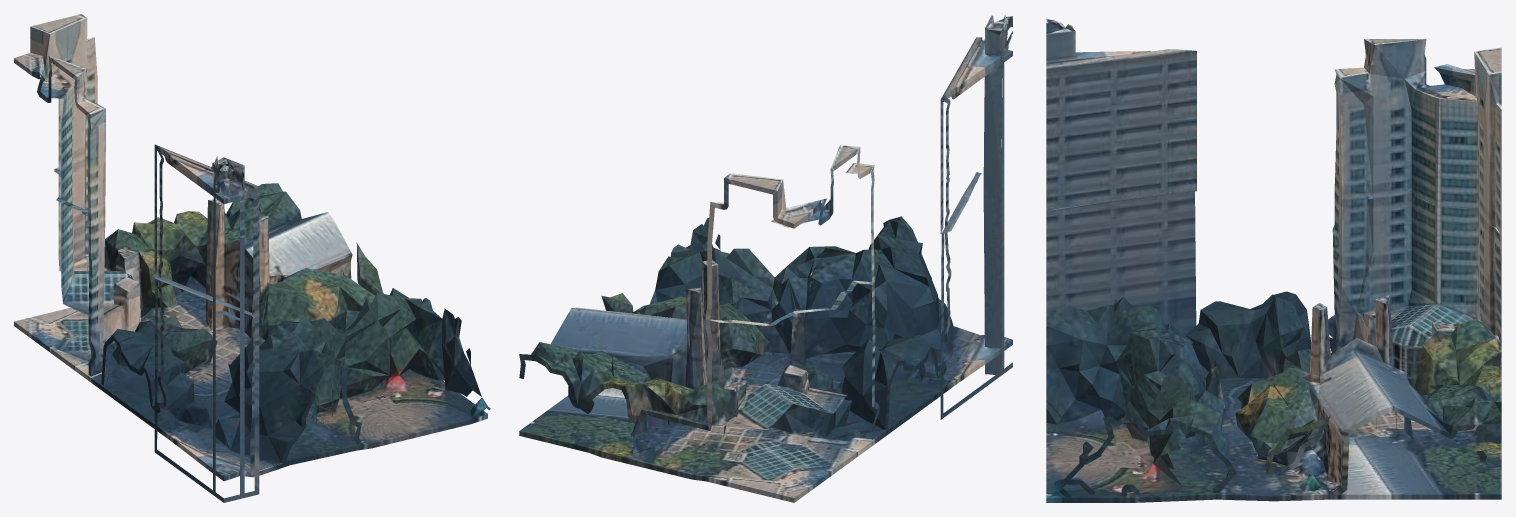
The model's file is chunk_-4_3.glb.
3 views of the same model, side by side, from view 1: azimuth 30°, elevation 25°; view 2: azimuth 150°, elevation 25°; view 3: azimuth 270°, elevation 25° (orthographic). The views are drawn at different scales.
Parts seen in each view (by area): view 1: hero-chunk; view 2: hero-chunk; view 3: hero-chunk.
Boxes of the visible parts, box(x1,y1,x2,y2) form: hero-chunk: box(14, 14, 490, 502); hero-chunk: box(519, 15, 1012, 502); hero-chunk: box(1046, 19, 1501, 502).
Bounding box in the file's own units: 56.96 × 68.6 × 76.32.
2 materials, 2 textured.
